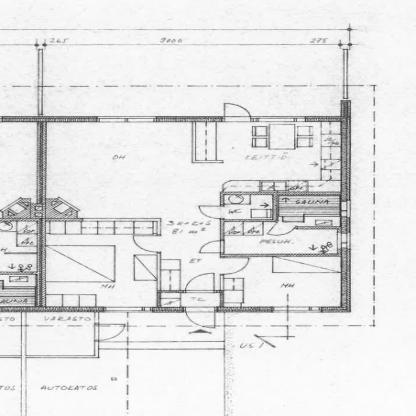bathroom: (220, 192, 341, 256), (221, 193, 270, 219)
door: (219, 100, 257, 124), (183, 307, 219, 329), (179, 272, 218, 292), (128, 234, 166, 254), (90, 322, 128, 342), (217, 257, 256, 276), (194, 204, 228, 222), (263, 223, 302, 237), (194, 238, 224, 254)
perimeter: (37, 120, 345, 309)
window: (94, 114, 162, 126), (265, 303, 329, 314), (98, 303, 158, 314), (253, 113, 310, 124), (334, 229, 355, 250), (336, 199, 356, 219)
